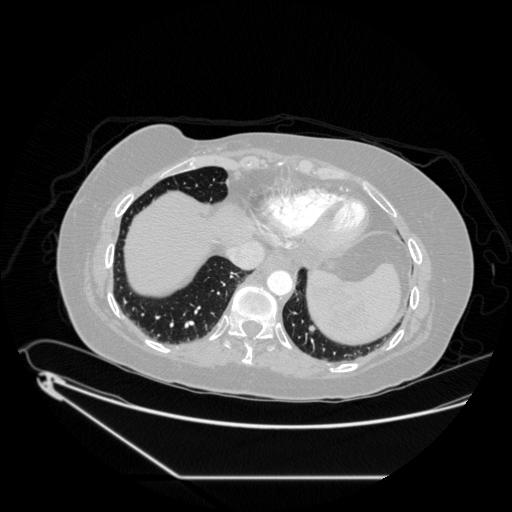nodule: (306, 323, 317, 334)
